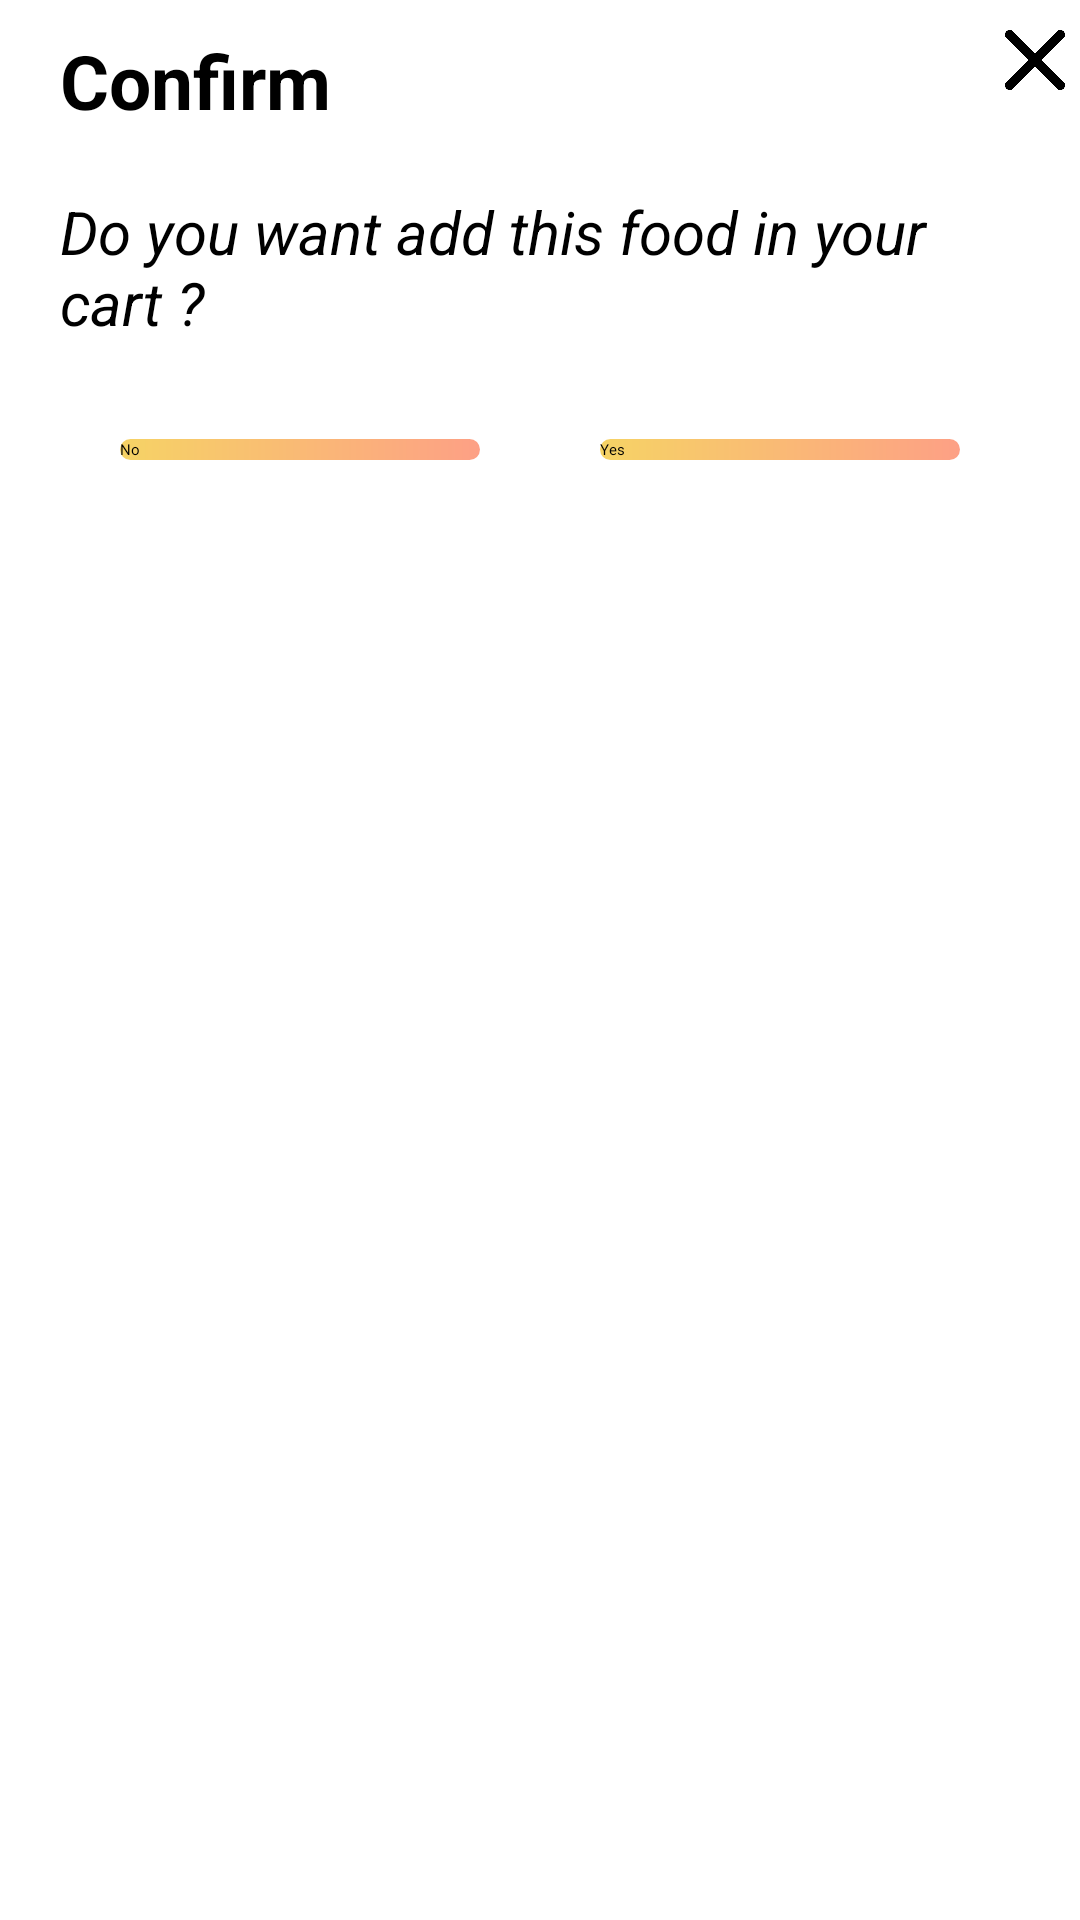

Point at icon controls on the screen. Image size 1080×1920, points as [x,y].
cancel: [1035,60]
